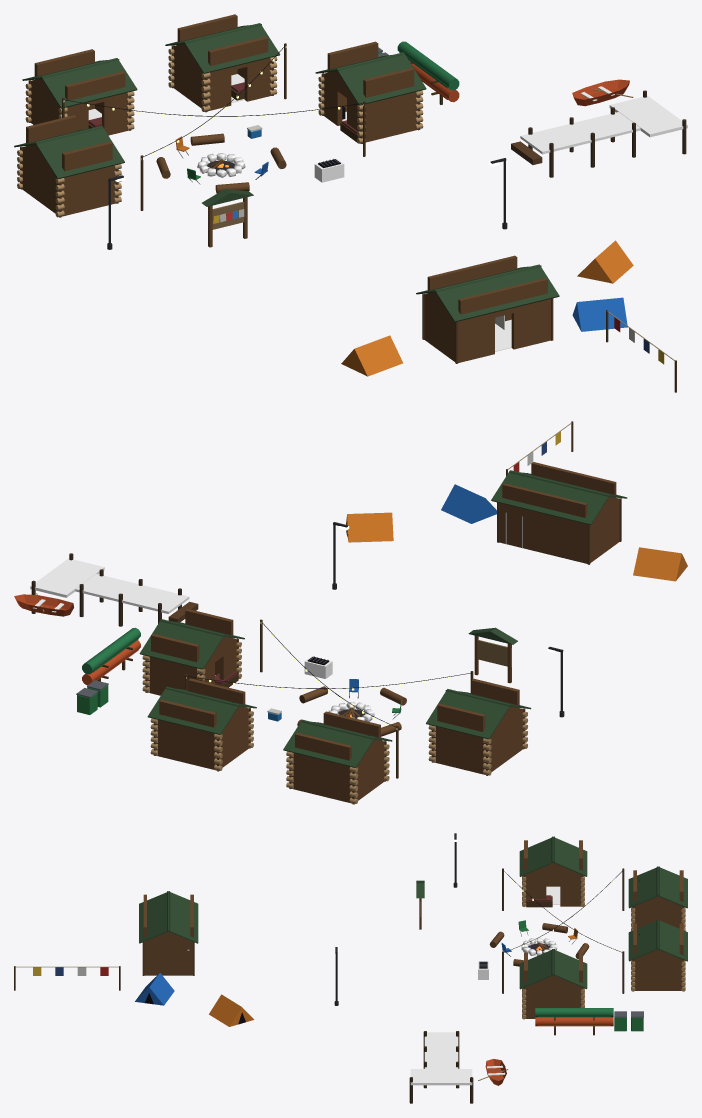
The model's file is tf-lodge-p5.glb.
3 views of the same model, one above another, from view 1: azimuth 30°, elevation 25°; view 2: azimuth 150°, elevation 25°; view 3: azimuth 270°, elevation 25° (orthographic). The views are drawn at different scales.
Parts seen in each view (by area): view 1: tf-lodge-p5; view 2: tf-lodge-p5; view 3: tf-lodge-p5.
Boxes of the visible parts, box(x1,y1,x2,y2) form: tf-lodge-p5: box(14, 14, 687, 392); tf-lodge-p5: box(14, 421, 687, 804); tf-lodge-p5: box(14, 833, 687, 1103).
Bounding box in the file's own units: 35.21 × 5.22 × 48.18.
